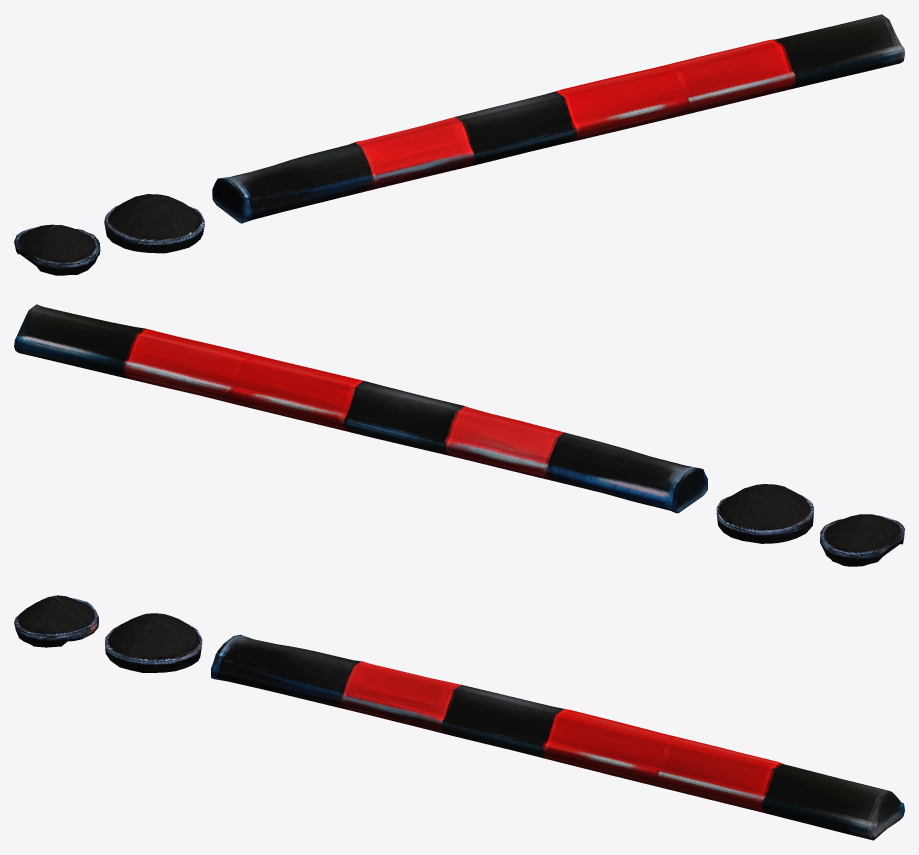
Rendered from danger_mark52.glb.
3 views of the same model, one above another, from view 1: azimuth 30°, elevation 25°; view 2: azimuth 150°, elevation 25°; view 3: azimuth 330°, elevation 25° (orthographic).
Parts seen in each view (by area): view 1: world; view 2: world; view 3: world.
Part boxes in pixels (<box>): world: <box>14,14,904,275</box>; world: <box>14,304,904,566</box>; world: <box>14,595,904,840</box>.
Size of the model in its own units: 1 by 0.0474 by 0.1027.
Materials: 1 (1 with a texture image).
